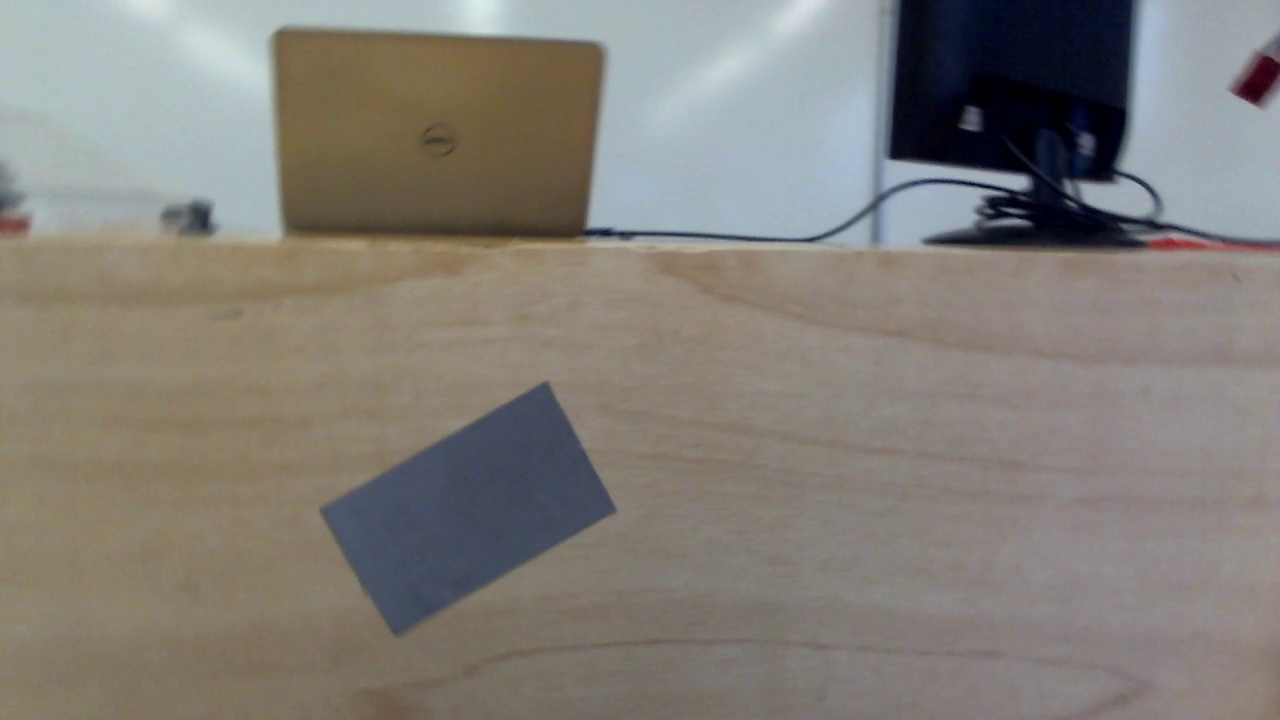Tape: (321, 382, 623, 636)
